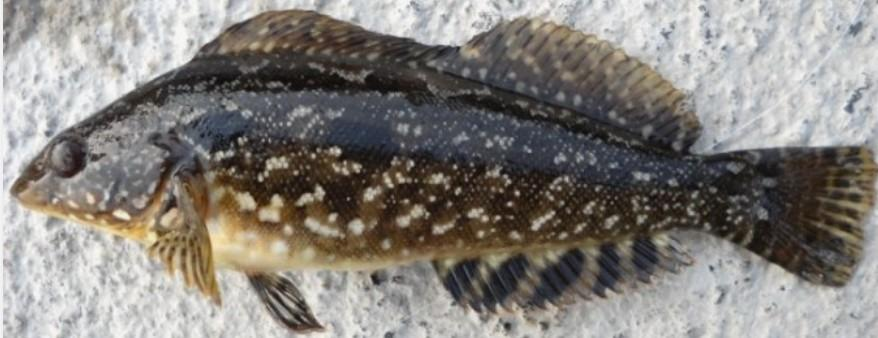fish: (13, 10, 877, 331)
